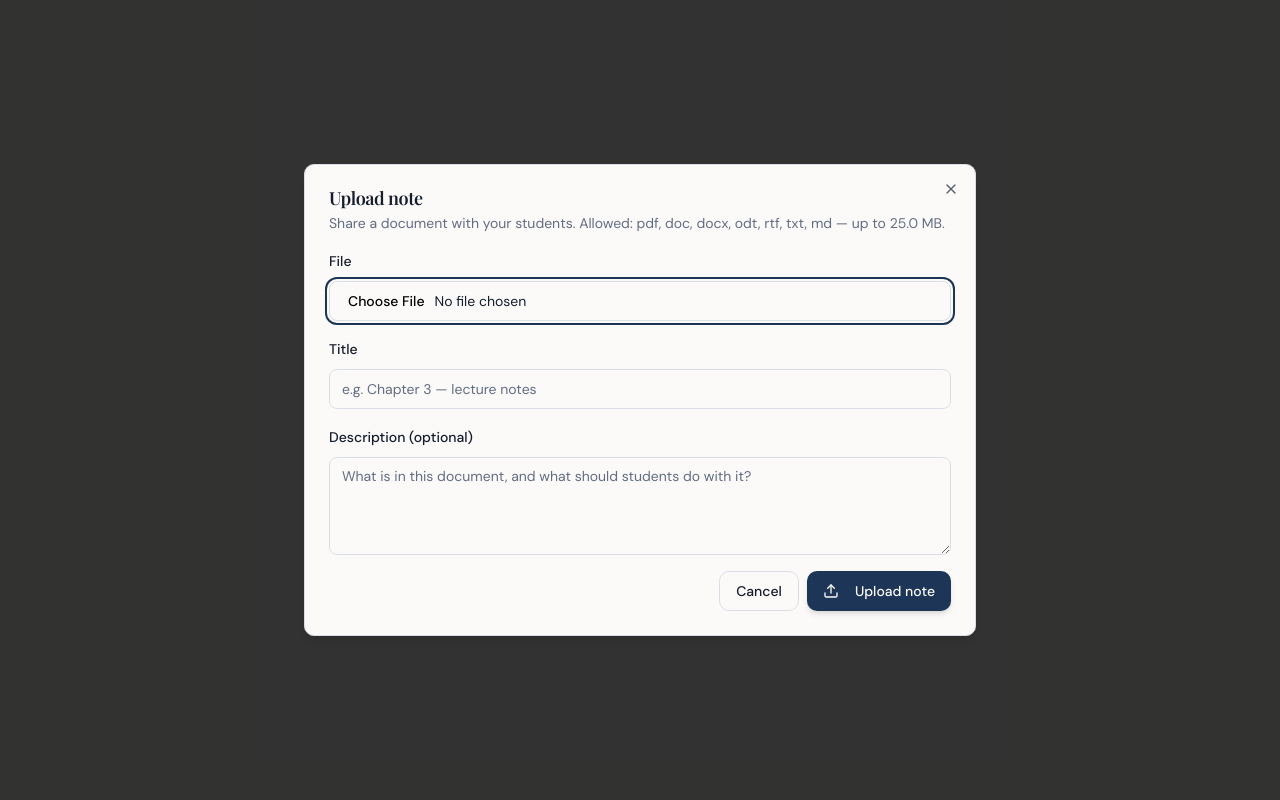
Test case: NoteEditorDialog › refuses to submit an upload with no file chosen
The width and height of the screenshot is (1280, 800).
Click the button "Upload note" at (879, 591), box x1=807 y1=571 x2=951 y2=611
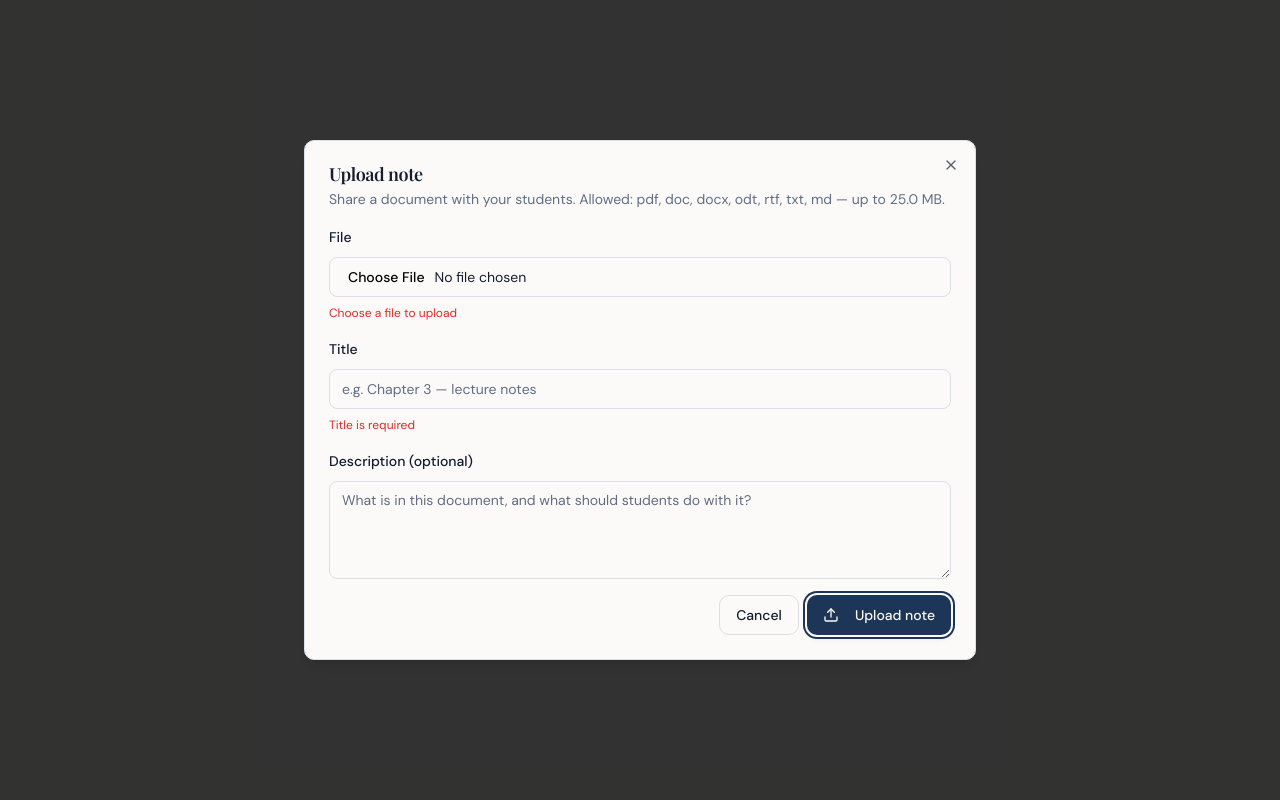
Result: the text "Choose a file to upload" is shown at x1=329 y1=305 x2=457 y2=321
